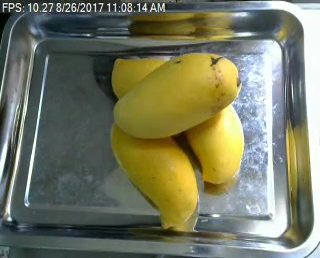Mango: (113, 50, 241, 140), (109, 119, 199, 234), (181, 89, 245, 187), (110, 53, 173, 99)
